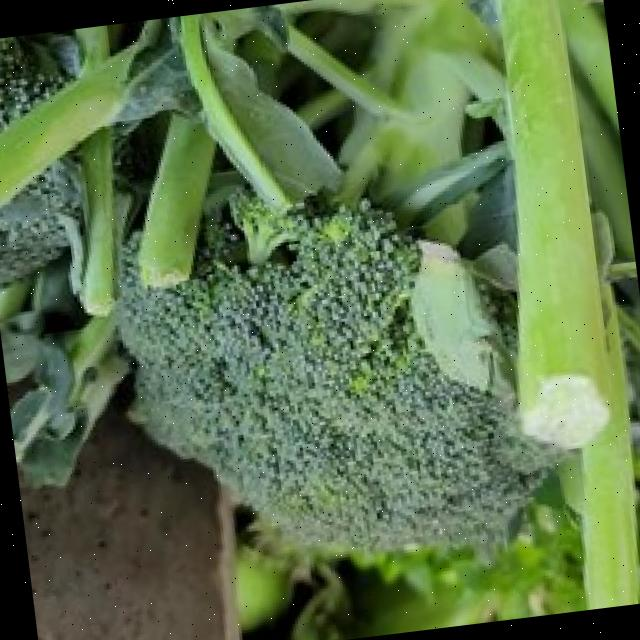Broccoli: (117, 204, 555, 548), (117, 205, 554, 548)
